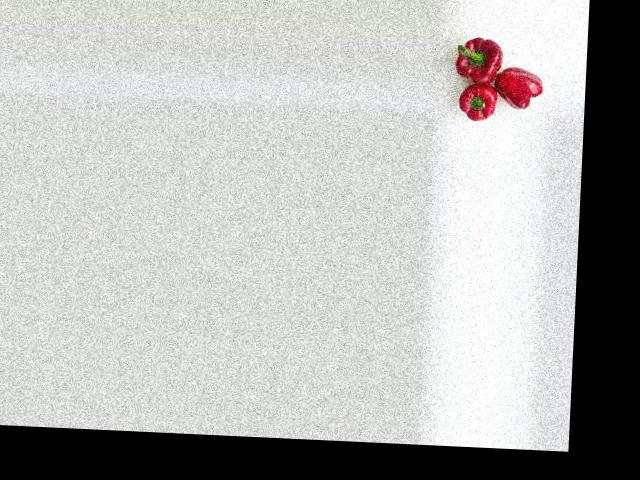bell_pepper: (492, 62, 550, 118)
